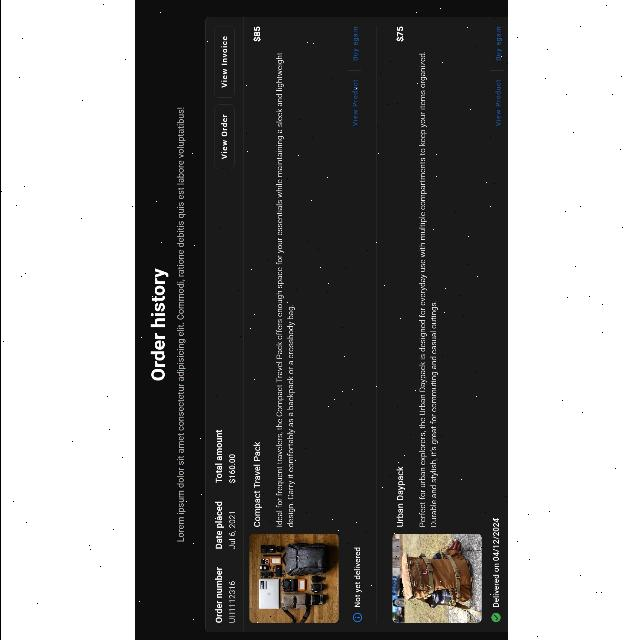QLabel: (273, 52, 295, 528), (417, 50, 438, 528), (173, 106, 185, 544), (148, 268, 168, 382), (491, 517, 499, 609), (251, 442, 259, 528), (394, 466, 404, 528), (492, 78, 502, 128), (218, 112, 228, 160), (352, 548, 360, 608), (213, 566, 221, 624), (214, 429, 222, 485), (220, 35, 228, 89), (350, 78, 358, 128), (214, 501, 222, 549), (226, 582, 234, 624), (226, 512, 234, 548), (349, 26, 357, 62), (492, 27, 500, 61), (226, 454, 234, 484), (393, 25, 403, 43), (250, 26, 260, 42)
VBtn: (212, 26, 234, 98), (212, 104, 234, 170)
VCard: (200, 16, 506, 634)
VDivider: (240, 17, 243, 631), (374, 25, 376, 622), (488, 68, 504, 72), (346, 68, 360, 72)
VIcon: (351, 612, 361, 624), (489, 614, 499, 622)
VImg: (246, 532, 338, 624), (390, 532, 480, 624)
